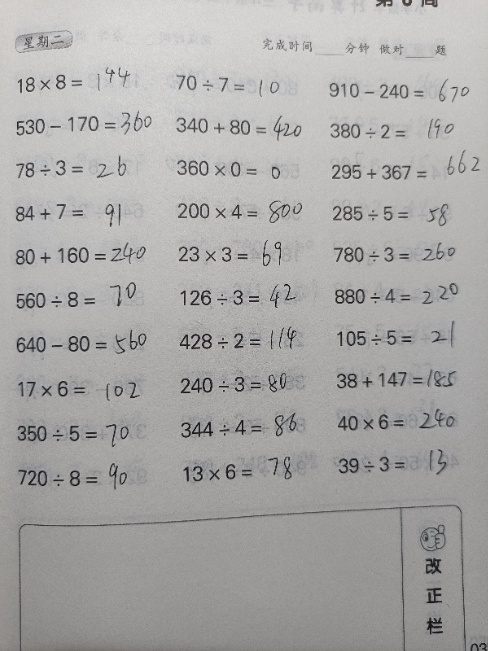equation: (325, 149, 482, 186), (169, 110, 316, 147), (10, 325, 156, 362), (9, 108, 155, 145), (9, 277, 154, 314), (173, 280, 320, 316), (326, 443, 473, 478), (172, 321, 318, 356), (325, 442, 471, 477), (8, 236, 155, 269), (173, 369, 320, 400), (176, 457, 322, 488), (173, 413, 320, 442), (11, 374, 158, 403), (329, 364, 476, 393), (11, 463, 157, 492), (11, 419, 157, 448), (170, 196, 316, 225), (329, 324, 476, 352), (326, 199, 473, 227), (321, 76, 468, 104), (168, 69, 315, 97), (328, 282, 474, 310), (327, 241, 473, 269), (171, 240, 317, 268), (170, 154, 316, 182), (10, 154, 156, 182), (323, 117, 469, 145), (11, 68, 157, 96), (329, 408, 476, 435), (8, 198, 155, 225)
